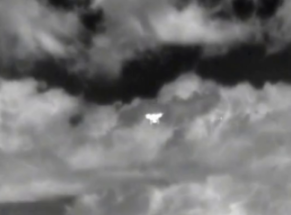Target: (146, 113, 161, 122)
